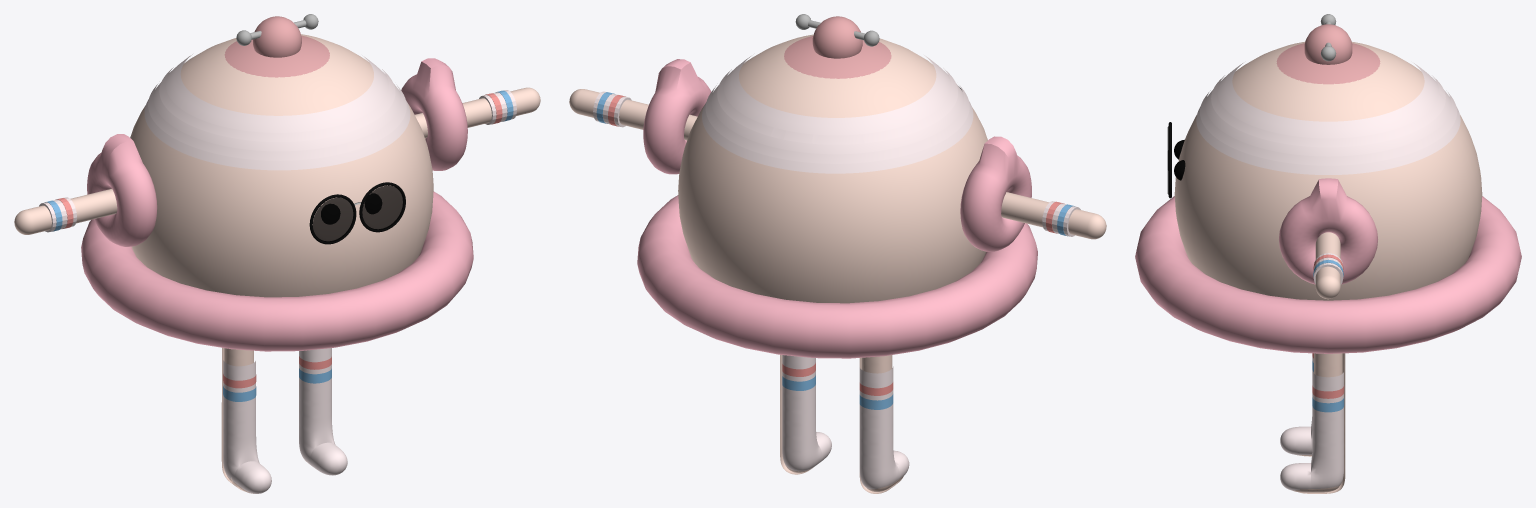
The model's file is Character-no_rig (4).gltf.
3 views of the same model, side by side, from view 1: azimuth 30°, elevation 25°; view 2: azimuth 150°, elevation 25°; view 3: azimuth 270°, elevation 25° (orthographic). The views are drawn at different scales.
Parts seen in each view (by area): view 1: Sphere, Torus (×2), ROOD, Torus.1, R Leg, Disc, AREOLA, R Arm, TEPEL, L Arm, WIT, BLAUW (+1 smaller); view 2: Sphere, Torus, ROOD, Torus.1, R Leg (×2), AREOLA, R Arm, TEPEL, L Arm, WIT, BLAUW; view 3: Sphere, Torus, ROOD, Torus.1, R Leg (×2), AREOLA, TEPEL, L Arm, L Leg.
Boxes of the visible parts, x1=… form: Sphere: x1=130, y1=34, x2=433, y2=297; Torus (×2): x1=81, y1=182, x2=473, y2=351; ROOD: x1=144, y1=54, x2=410, y2=170; Torus.1: x1=87, y1=58, x2=467, y2=246; R Leg: x1=223, y1=348, x2=347, y2=493; Disc: x1=313, y1=185, x2=403, y2=242; AREOLA: x1=224, y1=35, x2=329, y2=77; R Arm: x1=14, y1=188, x2=117, y2=234; TEPEL: x1=253, y1=16, x2=301, y2=57; L Arm: x1=415, y1=87, x2=540, y2=138; WIT: x1=39, y1=90, x2=516, y2=232; BLAUW: x1=223, y1=368, x2=331, y2=401; Sphere: x1=678, y1=34, x2=987, y2=303; Torus: x1=637, y1=195, x2=1037, y2=358; ROOD: x1=702, y1=55, x2=973, y2=173; Torus.1: x1=643, y1=59, x2=1031, y2=251; R Leg (×2): x1=782, y1=355, x2=909, y2=491; AREOLA: x1=784, y1=36, x2=891, y2=78; R Arm: x1=1001, y1=192, x2=1106, y2=239; TEPEL: x1=812, y1=16, x2=862, y2=58; L Arm: x1=569, y1=89, x2=697, y2=140; WIT: x1=593, y1=91, x2=1080, y2=236; BLAUW: x1=782, y1=375, x2=893, y2=409; Sphere: x1=1174, y1=42, x2=1482, y2=300; Torus: x1=1135, y1=196, x2=1521, y2=353; ROOD: x1=1196, y1=63, x2=1460, y2=174; Torus.1: x1=1279, y1=178, x2=1377, y2=284; R Leg (×2): x1=1280, y1=353, x2=1343, y2=492; AREOLA: x1=1276, y1=43, x2=1380, y2=84; TEPEL: x1=1304, y1=24, x2=1352, y2=64; L Arm: x1=1315, y1=232, x2=1340, y2=299; L Leg: x1=1299, y1=353, x2=1345, y2=493.
Bounding box in the file's own units: 380 × 316 × 248.
